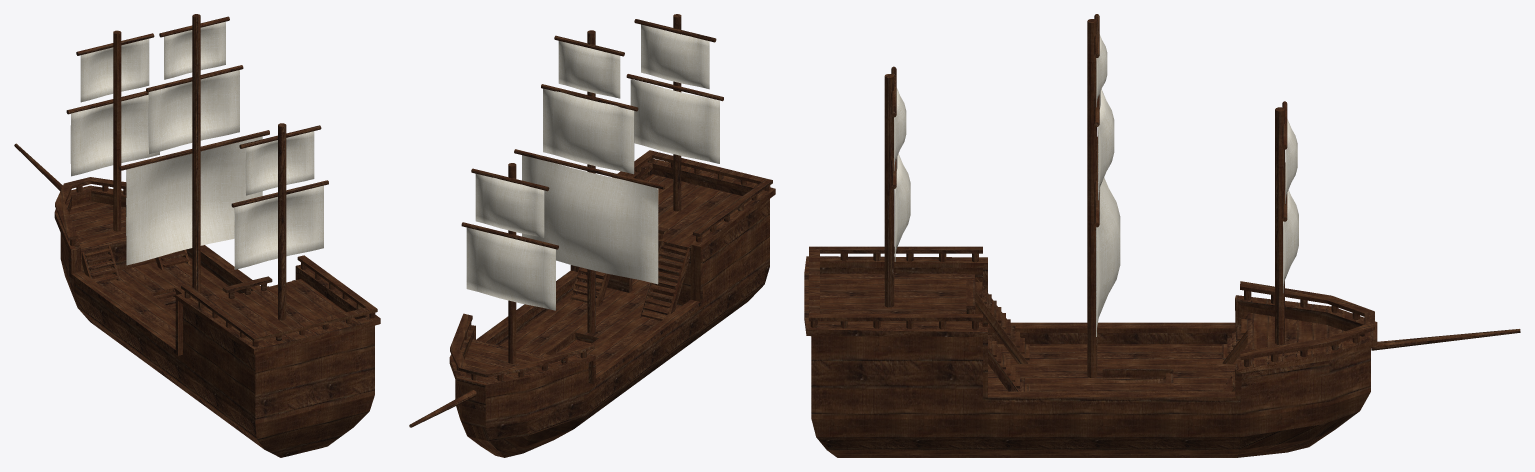
File: ship.glb
The picture shows the model from 3 angles, left to right: view 1: azimuth 30°, elevation 25°; view 2: azimuth 150°, elevation 25°; view 3: azimuth 270°, elevation 25°; orthographic projection. The views are drawn at different scales.
Visible parts, largest first — view 1: ship; view 2: ship; view 3: ship.
Boxes of the visible parts, box(x1,y1,x2,y2) form: ship: box(14, 14, 380, 457); ship: box(409, 14, 775, 457); ship: box(804, 14, 1520, 457).
Size of what is drawn, in the model's own units: 14.12 by 32.41 by 49.66.
Materials: 2 (2 with a texture image).
